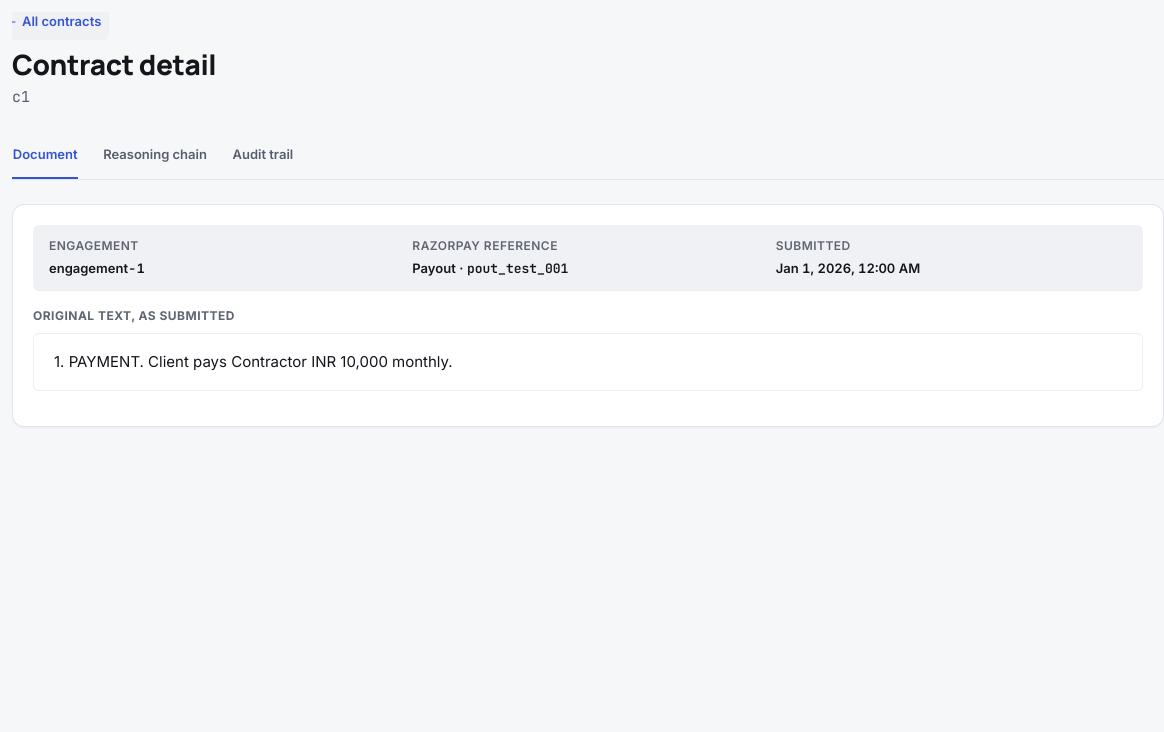
Scenario: ContractDetailPage › shows the audit trail with stage, prompt version, model, and latency, and lets the raw response be inspected without navigating away
The width and height of the screenshot is (1164, 732).
Click the tab "Audit trail" at (263, 156), box [232,133,294,179]
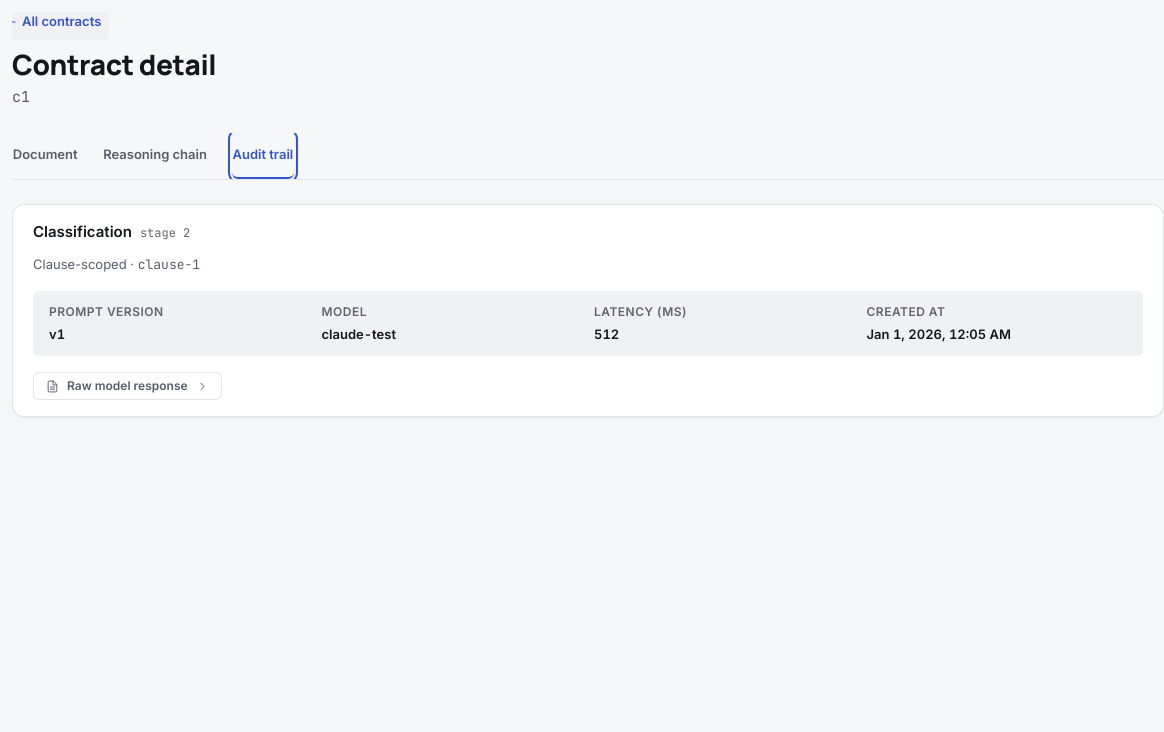
Expected: the text "v1" is shown, [49,326,65,342]
Expected: the text "claude-test" is shown, [322,326,396,342]
Expected: the text "512" is shown, [594,326,619,342]
Click the heading "Raw model response" at (127, 386), box [33,372,222,400]
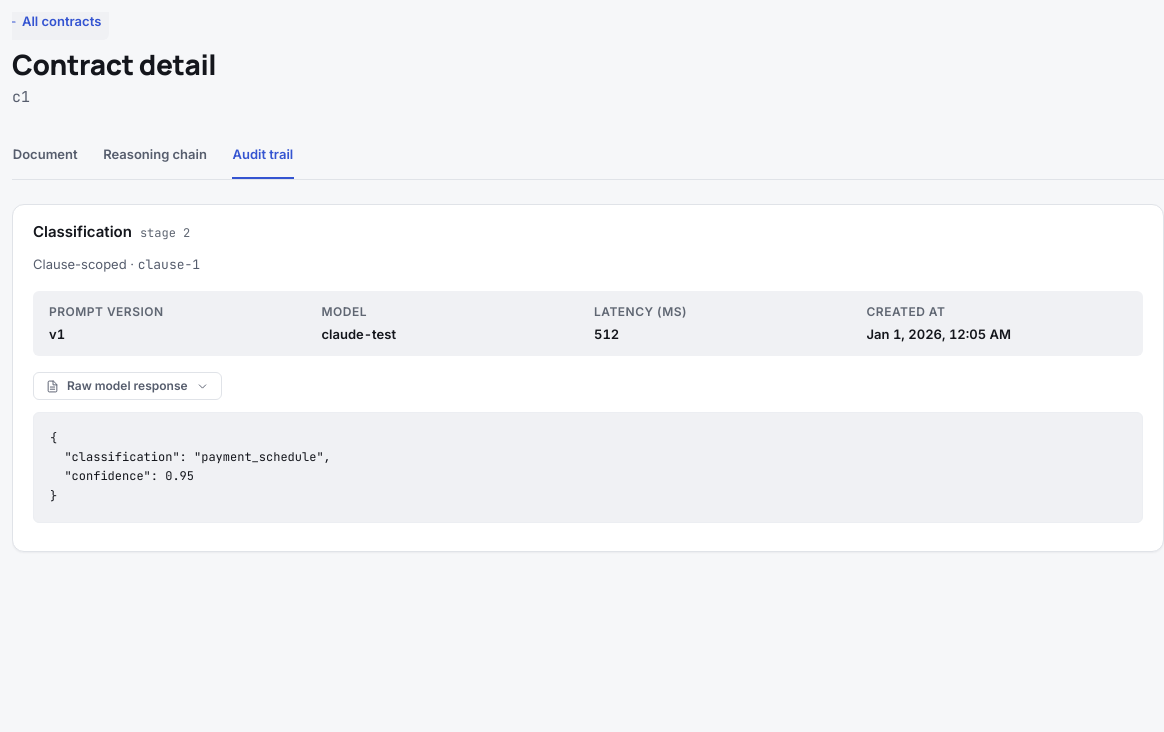
Expected: the text "{ \"classification\": \"payment_schedule\", \"confidence\": 0.95 }" is shown, [33,412,1143,523]
Expected: the text with test id "raw-response" shows "payment_schedule", [50,430,331,504]
